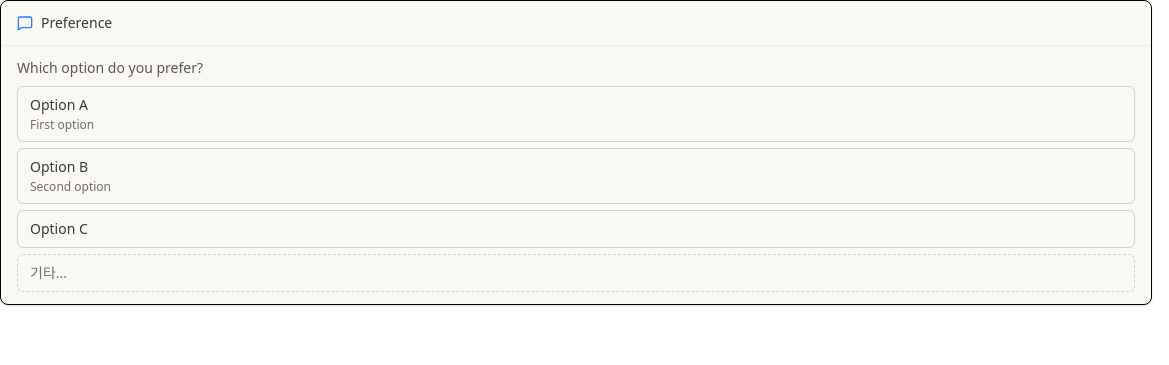
Test: InteractiveResponseCard › Other text input › shows text input when "Other" clicked
Click the button with aria-label "기타 (직접 입력)" at (49, 272), box [17,254,1135,292]
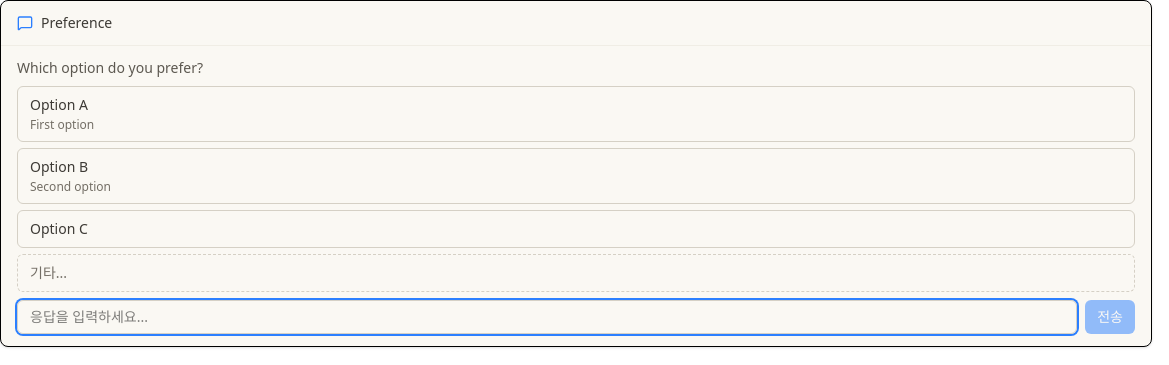
Expected: the field named "기타 응답 입력" is shown, [17,300,1077,334]
